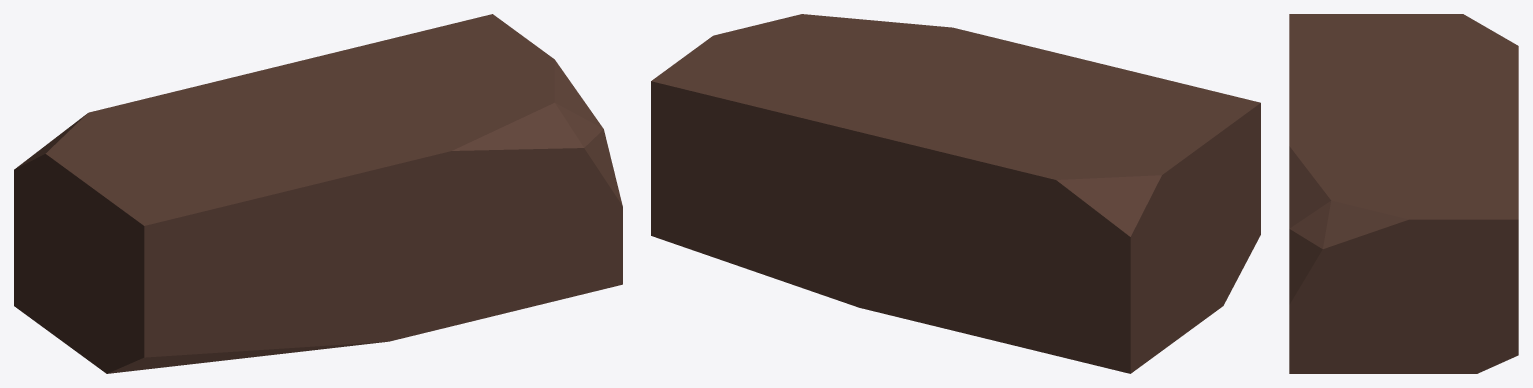
File: SM_Prop_Brick_03.obj
3 renders of one model, left to right at view 1: azimuth 30°, elevation 25°; view 2: azimuth 150°, elevation 25°; view 3: azimuth 270°, elevation 25°, orthographic. The views are drawn at different scales.
Parts seen in each view (by area): view 1: SM_Prop_Brick_03_0; view 2: SM_Prop_Brick_03_0; view 3: SM_Prop_Brick_03_0.
Boxes of the visible parts, x1,y1,x2,y2 form: SM_Prop_Brick_03_0: (14, 14, 622, 373); SM_Prop_Brick_03_0: (651, 14, 1260, 373); SM_Prop_Brick_03_0: (1289, 14, 1518, 373).
Size of the model in its own units: 0.5469 by 0.1916 by 0.2576.
1 material, 1 textured.
